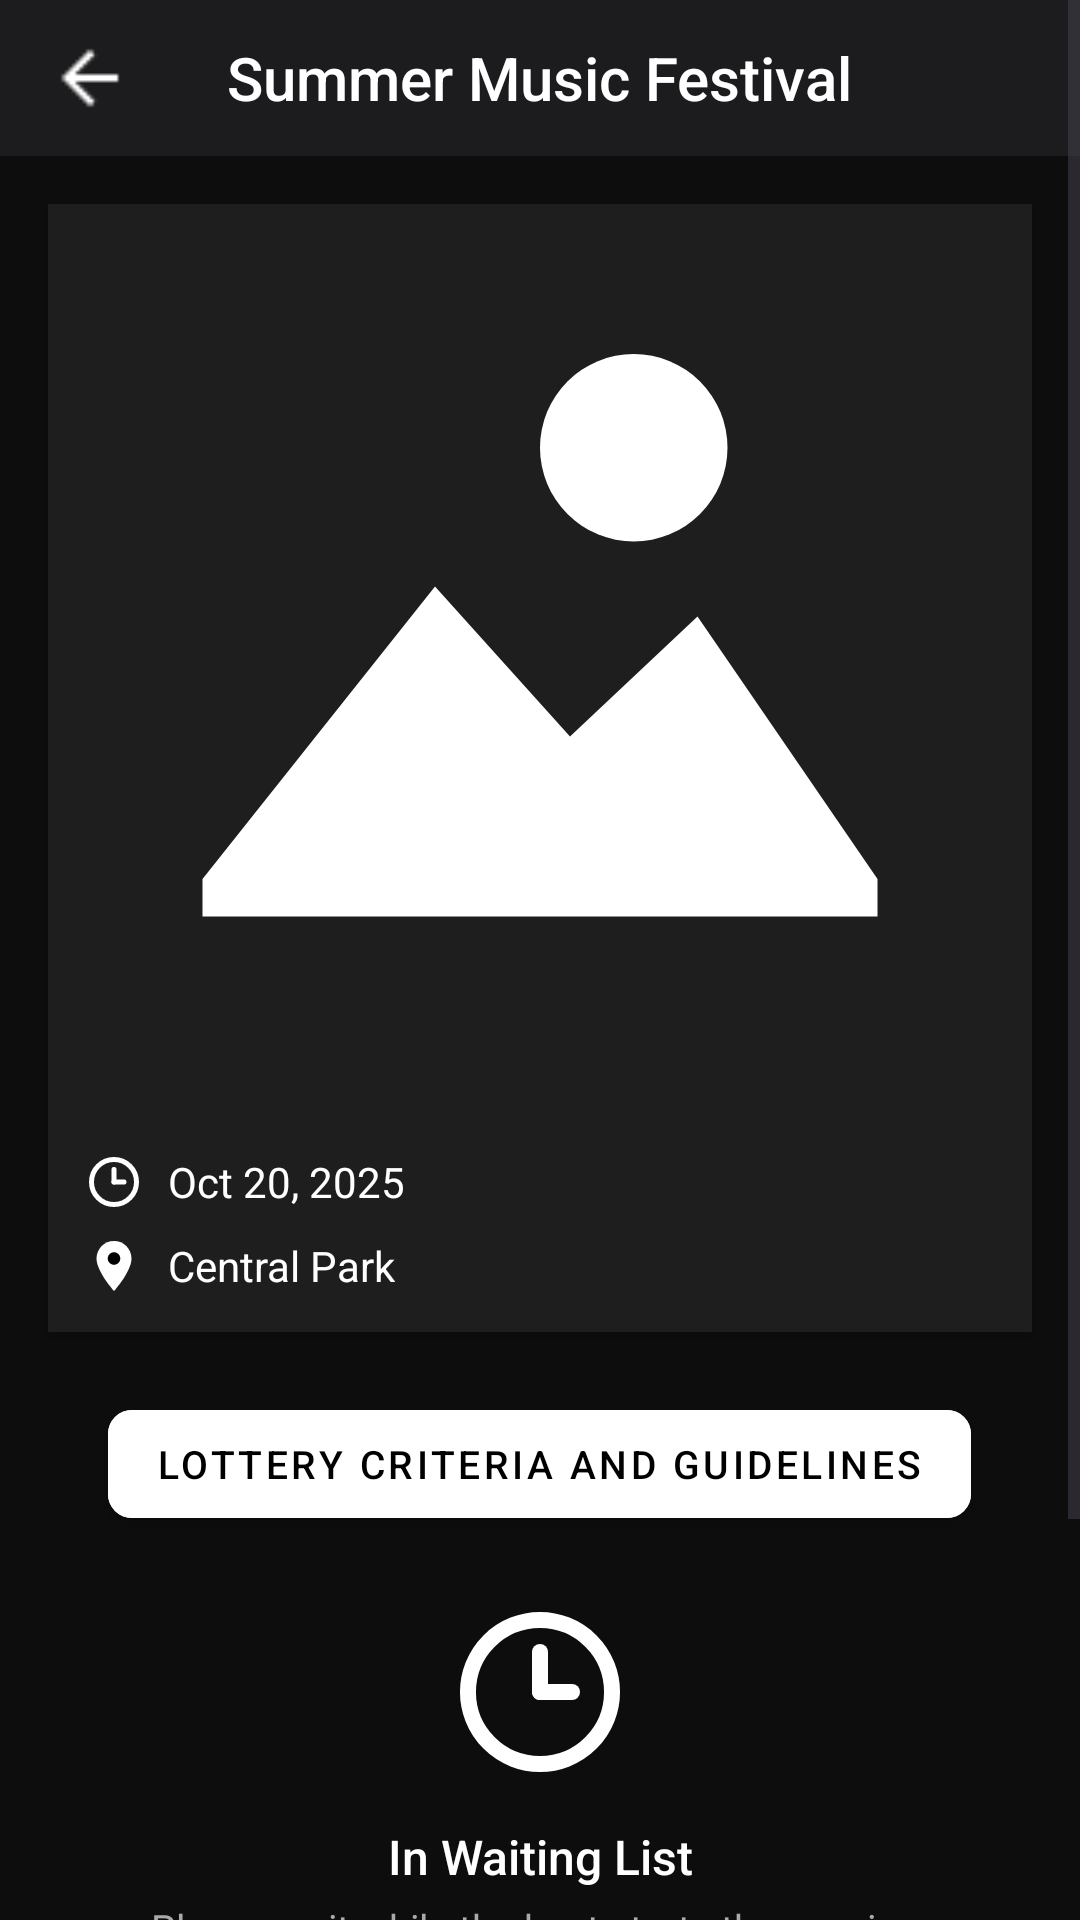

Screen size 1080px×1920px. Icon name, then its box in pixels as (x1, y1, x2, y2):
Back: (61, 49, 119, 107)
clock: (89, 1157, 139, 1207), (460, 1612, 620, 1772)
pin: (96, 1241, 132, 1291)
